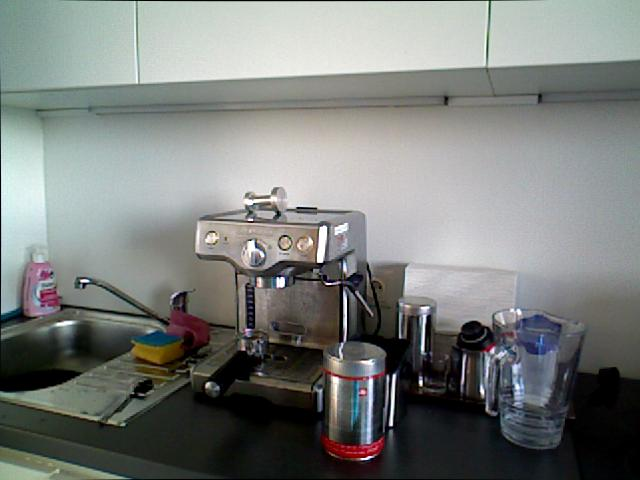bench: (20, 243, 62, 316)
couch: (0, 307, 167, 394)
handbag: (487, 305, 587, 449)
toilet: (94, 372, 154, 429), (175, 341, 214, 378)
